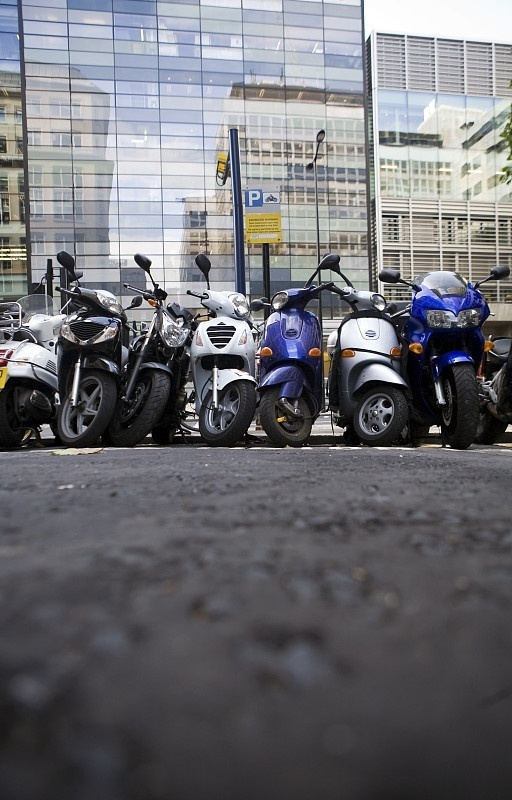non-vehicle: (402, 259, 490, 445), (330, 260, 403, 449), (119, 258, 186, 447), (57, 257, 123, 447), (256, 259, 322, 445), (189, 258, 251, 446), (4, 264, 62, 443), (478, 249, 510, 446)
